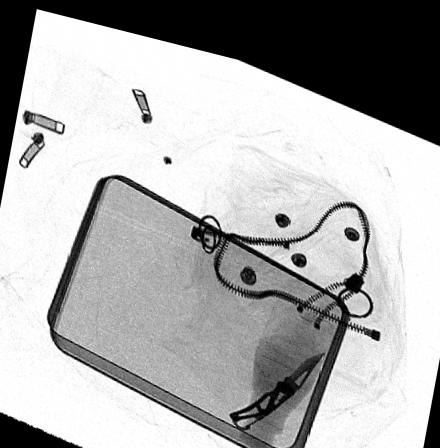Knife: (228, 335, 326, 419)
